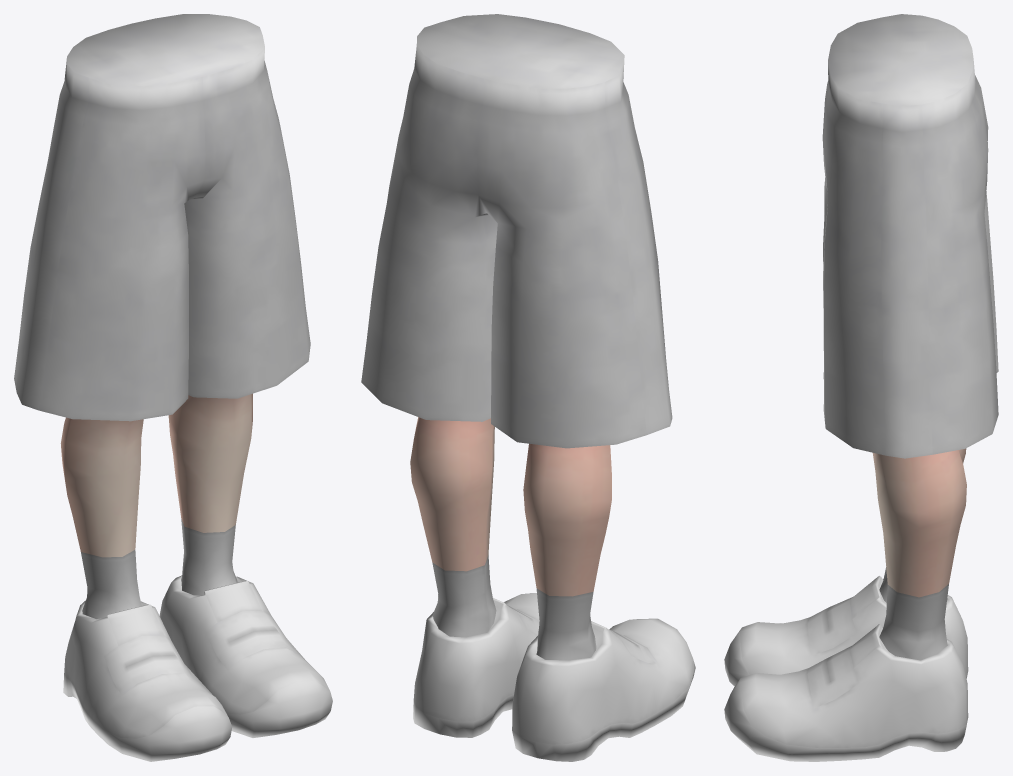
Rendered from tr0740_00_lwb00.gltf.
3 views of the same model, side by side, from view 1: azimuth 30°, elevation 25°; view 2: azimuth 150°, elevation 25°; view 3: azimuth 270°, elevation 25° (orthographic). The views are drawn at different scales.
Parts seen in each view (by area): view 1: lwb00_bottoms_mesh_shape:lowerbody00, lwb00_shoes_mesh_shape:lowerbody00, lwb00_lowerbody_mesh_shape:lowerbody00_skin, lwb00_lowerbody_mesh_shape:lowerbody00; view 2: lwb00_bottoms_mesh_shape:lowerbody00, lwb00_shoes_mesh_shape:lowerbody00, lwb00_lowerbody_mesh_shape:lowerbody00_skin, lwb00_lowerbody_mesh_shape:lowerbody00; view 3: lwb00_bottoms_mesh_shape:lowerbody00, lwb00_shoes_mesh_shape:lowerbody00, lwb00_lowerbody_mesh_shape:lowerbody00_skin, lwb00_lowerbody_mesh_shape:lowerbody00.
Part boxes in pixels (x1,y1,x2,y2): lwb00_bottoms_mesh_shape:lowerbody00: [14, 14, 310, 421]; lwb00_shoes_mesh_shape:lowerbody00: [63, 575, 332, 761]; lwb00_lowerbody_mesh_shape:lowerbody00_skin: [60, 393, 252, 557]; lwb00_lowerbody_mesh_shape:lowerbody00: [81, 519, 237, 618]; lwb00_bottoms_mesh_shape:lowerbody00: [361, 14, 672, 448]; lwb00_shoes_mesh_shape:lowerbody00: [413, 593, 695, 761]; lwb00_lowerbody_mesh_shape:lowerbody00_skin: [410, 417, 611, 596]; lwb00_lowerbody_mesh_shape:lowerbody00: [432, 555, 596, 660]; lwb00_bottoms_mesh_shape:lowerbody00: [822, 14, 998, 458]; lwb00_shoes_mesh_shape:lowerbody00: [724, 576, 968, 761]; lwb00_lowerbody_mesh_shape:lowerbody00_skin: [872, 448, 966, 597]; lwb00_lowerbody_mesh_shape:lowerbody00: [879, 567, 948, 660].
Size of what is drawn, in the model's own units: 0.4505 by 0.9619 by 0.3666.
Materials: 2 (2 with a texture image).
